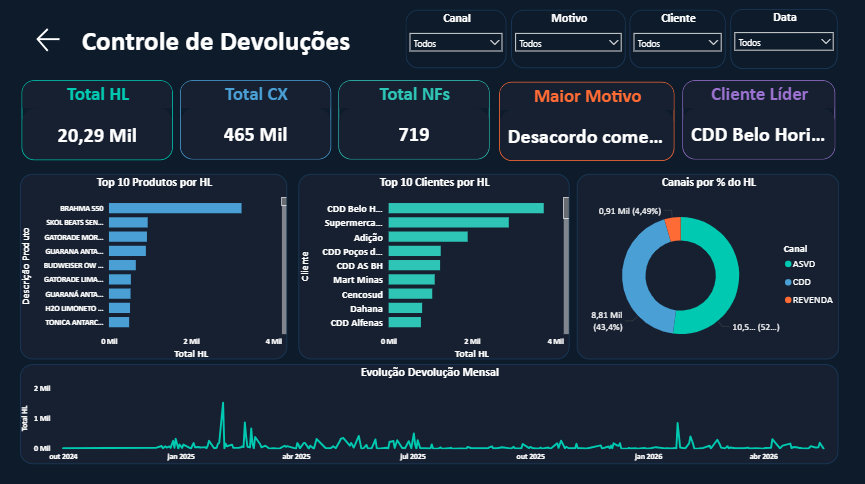

Layout of this report page (visuals, bound fields, positions):
{"tool":"powerbi","page":{"name":"Controle de Devoluções","canvas":[1280,720],"ordinal":1},"visuals":[{"type":"cardVisual","title":"Total HL","fields":{"Data":["Sheet1.Total HL"]},"box":[2.5,117.5,236.2,125],"z":0},{"type":"cardVisual","title":"Total CX","fields":{"Data":["Sheet1.Total CX"]},"box":[250,118,236,124],"z":1000},{"type":"cardVisual","title":"Total NFs","fields":{"Data":["Sheet1.Total NFs"]},"box":[498,118,236,124],"z":2000},{"type":"cardVisual","title":"Maior Motivo","fields":{"Data":["Sheet1.Motivo Lider"]},"box":[748.3,120,273.3,123.3],"z":3000},{"type":"cardVisual","title":"Cliente Líder","fields":{"Data":["Sheet1.Cliente Lider"]},"box":[1035,118,239,124],"z":4000},{"type":"lineChart","title":"Evolução Devolução Mensal","fields":{"Y":["Sheet1.Total HL"],"Category":["Sheet1_Consolidado.Emissão nf.Variation.Hierarquia de datas.Ano","Sheet1_Consolidado.Emissão nf.Variation.Hierarquia de datas.Trimestre","Sheet1_Consolidado.Emissão nf.Variation.Hierarquia de datas.Mês","Sheet1_Consolidado.Emissão nf.Variation.Hierarquia de datas.Dia"]},"box":[0,561.7,1278.3,156.7],"z":5000},{"type":"donutChart","title":"Canais por % do HL","fields":{"Y":["Sheet1.Total HL"],"Category":["Canal.Canal"]},"box":[870,263.3,410,290],"z":6000},{"type":"clusteredBarChart","title":"Top 10 Produtos por HL","fields":{"Y":["Sheet1.Total HL"],"Category":["Sheet1_Consolidado.Descrição Produto"]},"box":[0,264,418,290],"z":7000},{"type":"clusteredBarChart","title":"Top 10 Clientes por HL","fields":{"Y":["Sheet1.Total HL"],"Category":["Sheet1_Consolidado.Cliente"]},"box":[435,263.3,423.3,290],"z":8000},{"type":"slicer","title":"Canal","fields":{"Values":["Canal.Canal"]},"box":[602,7,158,91],"z":9000},{"type":"slicer","title":"Motivo","fields":{"Values":["Sheet1_Consolidado.Motivo"]},"box":[768,7,179,91],"z":10000},{"type":"slicer","title":"Cliente","fields":{"Values":["Sheet1_Consolidado.Cliente"]},"box":[953,7,150,91],"z":11000},{"type":"textbox","box":[10,6,592,98],"z":12000},{"type":"slicer","title":"Data","fields":{"Values":["Sheet1_Consolidado.Emissão nf.Variation.Hierarquia de datas.Mês","Sheet1_Consolidado.Emissão nf.Variation.Hierarquia de datas.Dia"]},"box":[1110,6,168,94],"z":13000},{"type":"actionButton","box":[21.4,31.4,55.7,47.1],"z":14000}]}

Visuals, with their boxes in screenshot pixels (x1, y1, x2, y2), scaled from the page's 1280x720 canvas onto the 865x484 screenshot:
"Total HL" cardVisual: {"left": 2, "top": 79, "right": 161, "bottom": 163}
"Total CX" cardVisual: {"left": 169, "top": 79, "right": 328, "bottom": 163}
"Total NFs" cardVisual: {"left": 337, "top": 79, "right": 496, "bottom": 163}
"Maior Motivo" cardVisual: {"left": 506, "top": 81, "right": 690, "bottom": 164}
"Cliente Líder" cardVisual: {"left": 699, "top": 79, "right": 861, "bottom": 163}
"Evolução Devolução Mensal" lineChart: {"left": 0, "top": 378, "right": 864, "bottom": 483}
"Canais por % do HL" donutChart: {"left": 588, "top": 177, "right": 864, "bottom": 372}
"Top 10 Produtos por HL" clusteredBarChart: {"left": 0, "top": 177, "right": 282, "bottom": 372}
"Top 10 Clientes por HL" clusteredBarChart: {"left": 294, "top": 177, "right": 580, "bottom": 372}
"Canal" slicer: {"left": 407, "top": 5, "right": 514, "bottom": 66}
"Motivo" slicer: {"left": 519, "top": 5, "right": 640, "bottom": 66}
"Cliente" slicer: {"left": 644, "top": 5, "right": 745, "bottom": 66}
textbox: {"left": 7, "top": 4, "right": 407, "bottom": 70}
"Data" slicer: {"left": 750, "top": 4, "right": 864, "bottom": 67}
actionButton: {"left": 14, "top": 21, "right": 52, "bottom": 53}
